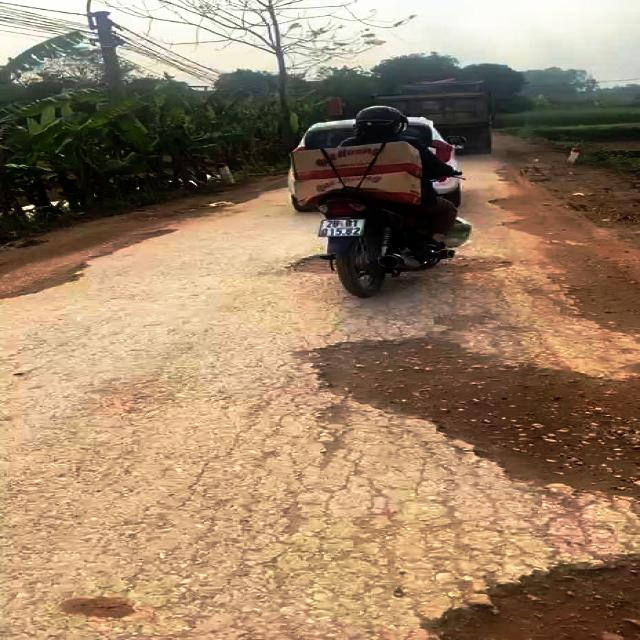pothole: (300, 329, 640, 500), (387, 539, 640, 640), (0, 226, 188, 298), (277, 248, 508, 278), (488, 194, 564, 243)
